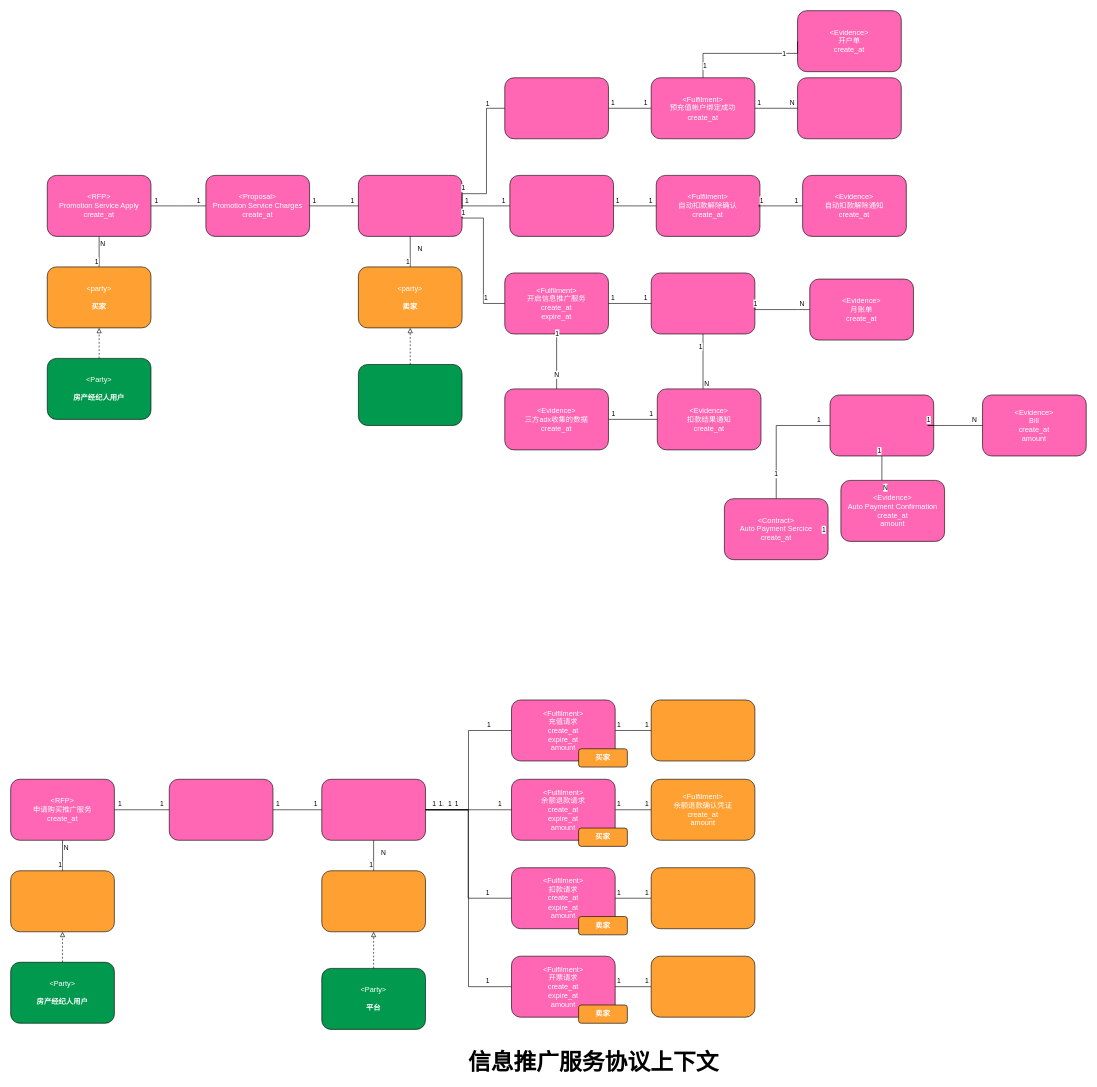
This 1097x1087 diagram has some shape labels left out. Here are the shapes that lost their labels. From the top down, the centre of each, then its label:
pixel 556 108: <Fulfilment> 开通/绑定预充值账户 create_at expire_at
pixel 849 108: <Evidence> 充值凭证 create_at
pixel 410 205: <Contract> Promotion Service create_at
pixel 561 205: <Fulfilment> 暂停/停止信息推广服务 create_at expire_at
pixel 703 303: <Fulfilment> 自动扣款协议生效 create_at
pixel 410 394: <Party> 思沃租房平台
pixel 881 425: <Fulfilment> Auto Payment Request create_at amount
pixel 703 730: <Fulfilment> 充值确认凭证 create_at amount
pixel 221 809: <Proposal> 推广服务购买须知 create_at price
pixel 373 809: <Contract> 推广服务购买订单 create_at
pixel 62 901: <Role> 买家
pixel 373 901: <Role> 卖家
pixel 703 898: <Fulfilment> 扣款确认凭证 create_at amount
pixel 703 986: <Fulfilment> 开票 create_at amount
